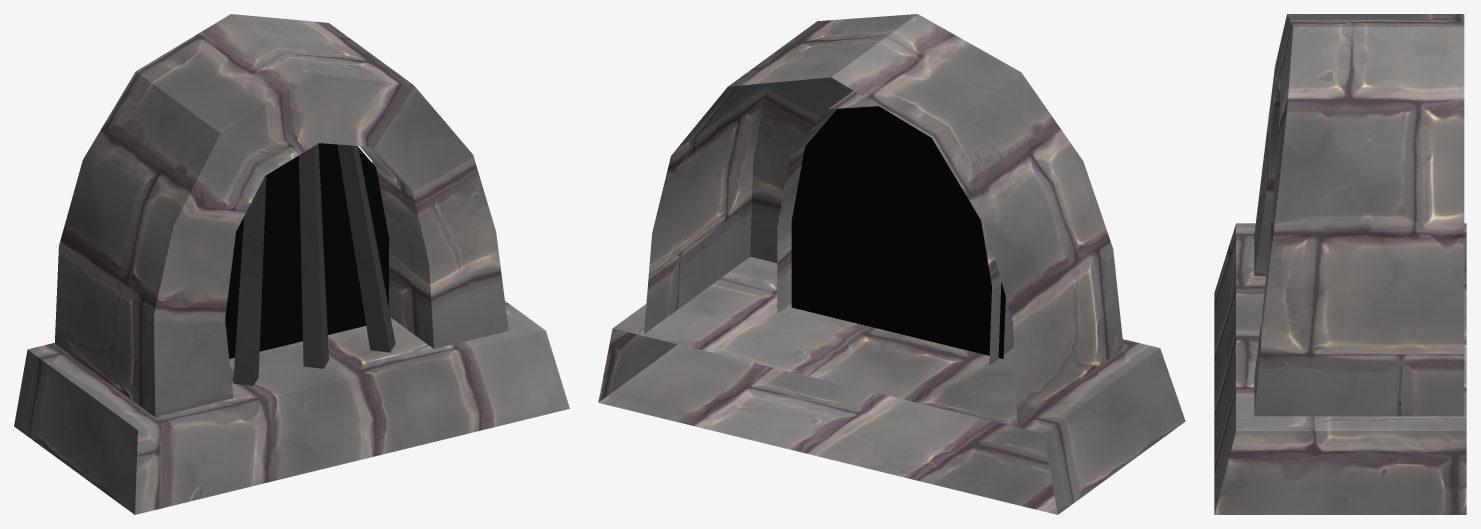
Rendered from SM_BLD_window_v09_02.glb.
The picture shows the model from 3 angles, left to right: view 1: azimuth 30°, elevation 25°; view 2: azimuth 150°, elevation 25°; view 3: azimuth 270°, elevation 25°; orthographic projection. The views are drawn at different scales.
Parts seen in each view (by area): view 1: SM_BLD_window_v09_02_EXPORT; view 2: SM_BLD_window_v09_02_EXPORT; view 3: SM_BLD_window_v09_02_EXPORT.
Boxes of the visible parts, bbox=[...] form: SM_BLD_window_v09_02_EXPORT: bbox=[14, 14, 569, 514]; SM_BLD_window_v09_02_EXPORT: bbox=[598, 14, 1185, 514]; SM_BLD_window_v09_02_EXPORT: bbox=[1214, 14, 1466, 514].
Size of the model in its own units: 1.54 by 1.22 by 0.7411.
3 materials, 3 textured.
